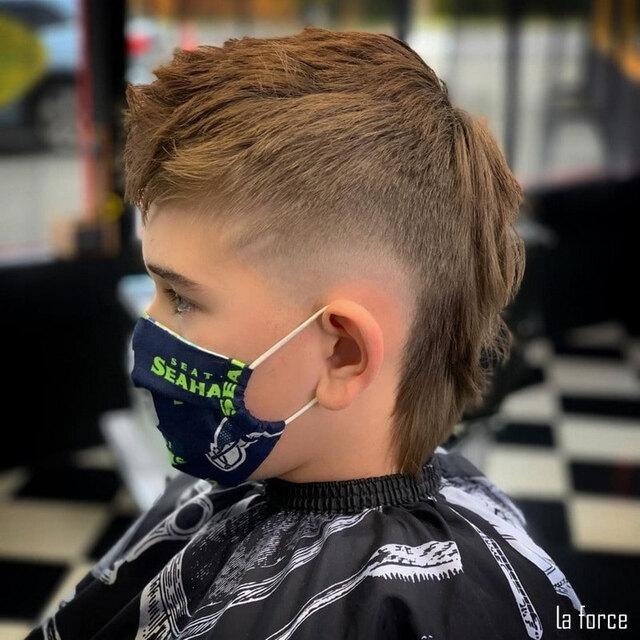Face and Hair: (85, 9, 547, 511)
